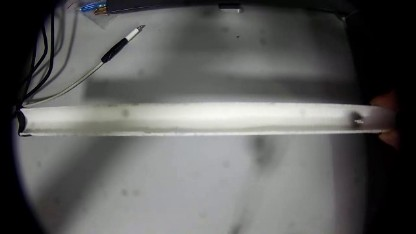gangzhu: (349, 108, 364, 132)
